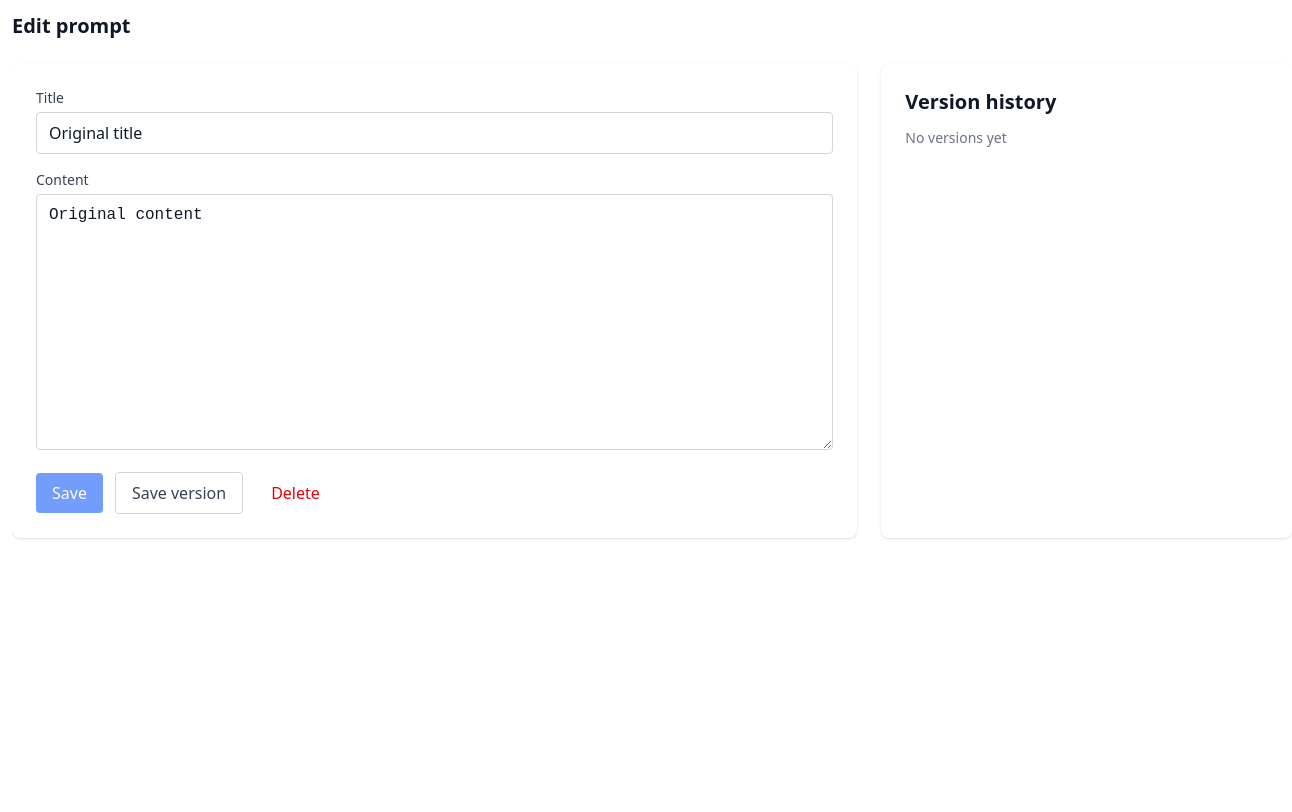
Test case: PromptEditorPage › saves only the changed field and shows a success banner
Replace the text in the field showing "Original title" with "New title" at {"x": 435, "y": 133}, box [36,112,833,154]
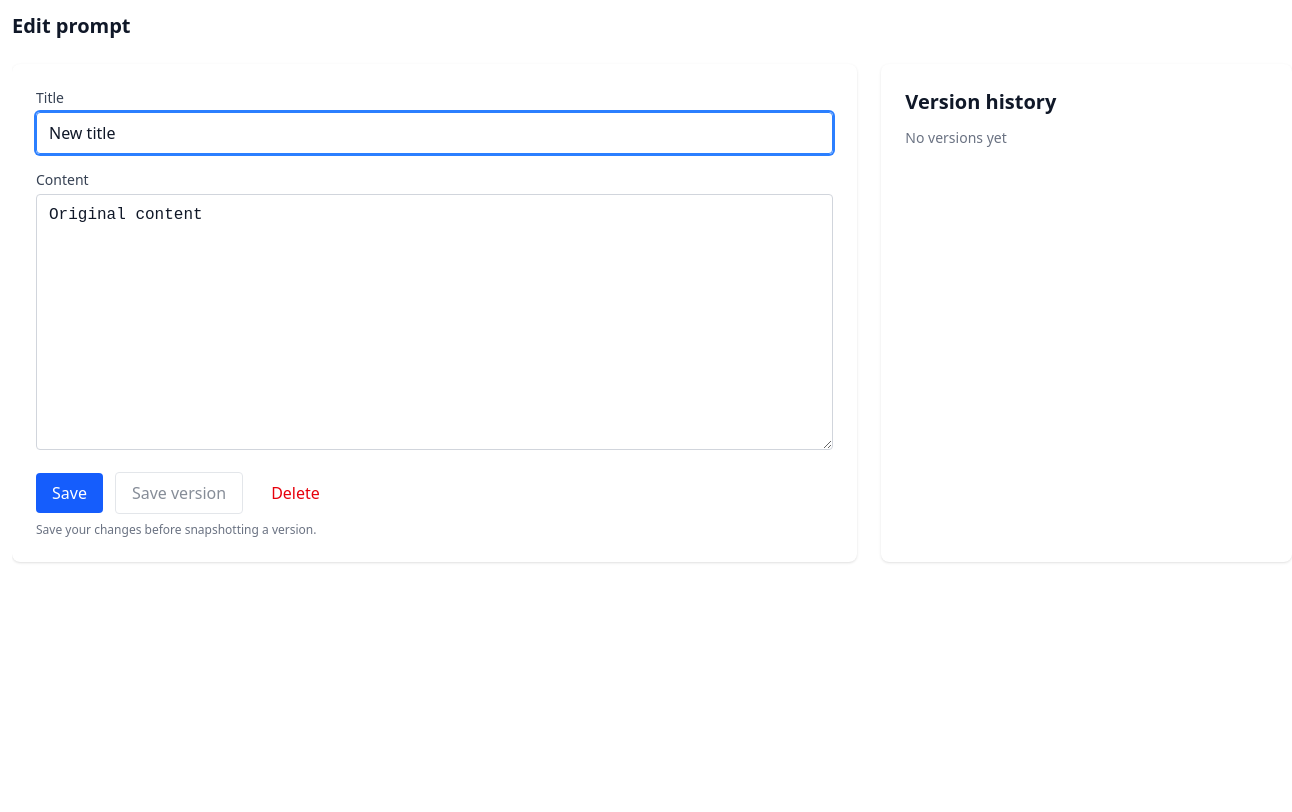
Click the button "Save" at {"x": 69, "y": 493}, box [36,473,103,513]
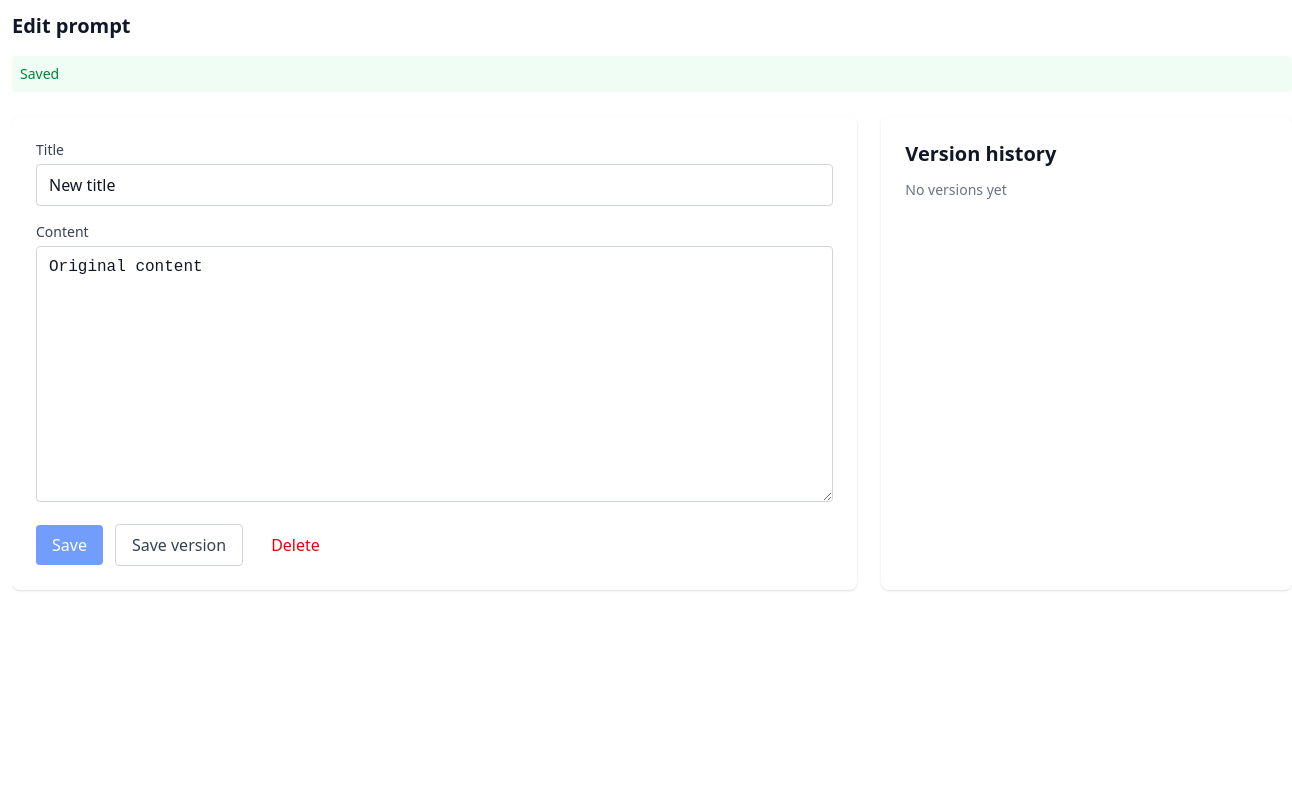
Result: the message reads "Saved" at [20,64,59,83]
Result: the button "Save" is disabled at [36,525,103,565]
